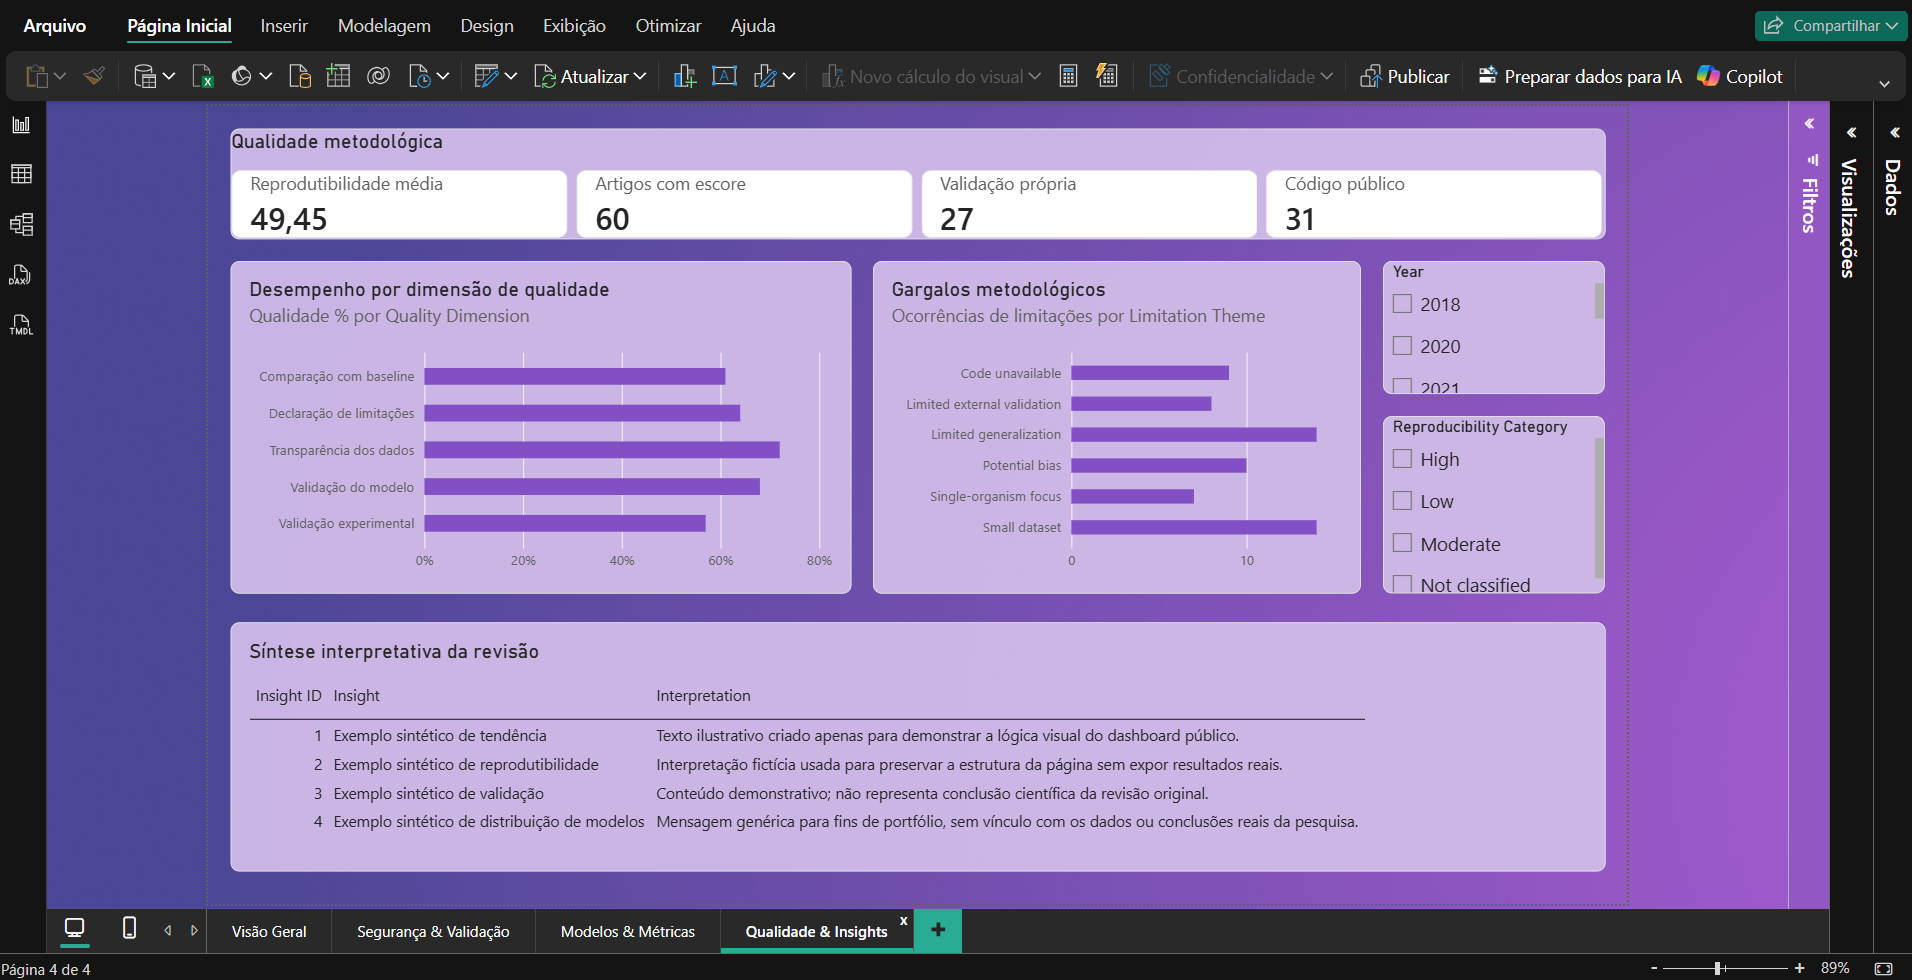

The dashboard page shown, as its layout file describes it:
{"tool":"powerbi","page":{"name":"Qualidade & Insights","canvas":[1280,720],"ordinal":3},"visuals":[{"type":"cardVisual","title":"Qualidade metodológica","fields":{"Data":["Articles.Reprodutibilidade média","Articles.Artigos com escore","Articles.Validação própria","Articles.Código público"]},"box":[20,20,1240,100],"z":1000},{"type":"clusteredBarChart","title":"Desempenho por dimensão de qualidade","fields":{"Category":["Quality.Quality Dimension"],"Y":["Quality.Qualidade %"]},"box":[20,140,560,300],"z":2000},{"type":"clusteredBarChart","title":"Gargalos metodológicos","fields":{"Category":["Limitations.Limitation Theme"],"Y":["Limitations.Ocorrências de limitações"]},"box":[600,140,440,300],"z":3000},{"type":"slicer","title":"Ano","fields":{"Values":["Articles.Year"]},"box":[1060,140,200,120],"z":4000},{"type":"slicer","title":"Reprodutibilidade","fields":{"Values":["Articles.Reproducibility Category"]},"box":[1060,280,200,160],"z":5000},{"type":"tableEx","title":"Síntese interpretativa da revisão","fields":{"Values":["Interpretations.Insight ID","Interpretations.Insight","Interpretations.Interpretation"]},"box":[20,465,1240,225],"z":6000}]}

Visuals, with their boxes on the page's 1280x720 design canvas (x1, y1, x2, y2). These are canvas units, not pixel positions in the 1912x980 screenshot, which may show the page scaled, cropped or inside an application window:
"Qualidade metodológica" cardVisual: (left=20, top=20, right=1260, bottom=120)
"Desempenho por dimensão de qualidade" clusteredBarChart: (left=20, top=140, right=580, bottom=440)
"Gargalos metodológicos" clusteredBarChart: (left=600, top=140, right=1040, bottom=440)
"Ano" slicer: (left=1060, top=140, right=1260, bottom=260)
"Reprodutibilidade" slicer: (left=1060, top=280, right=1260, bottom=440)
"Síntese interpretativa da revisão" tableEx: (left=20, top=465, right=1260, bottom=690)
